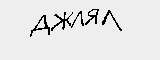Д: (28, 12, 52, 41)
Ж: (51, 7, 73, 34)
Л: (100, 9, 122, 34), (70, 8, 86, 29)
Я: (85, 7, 103, 27)
